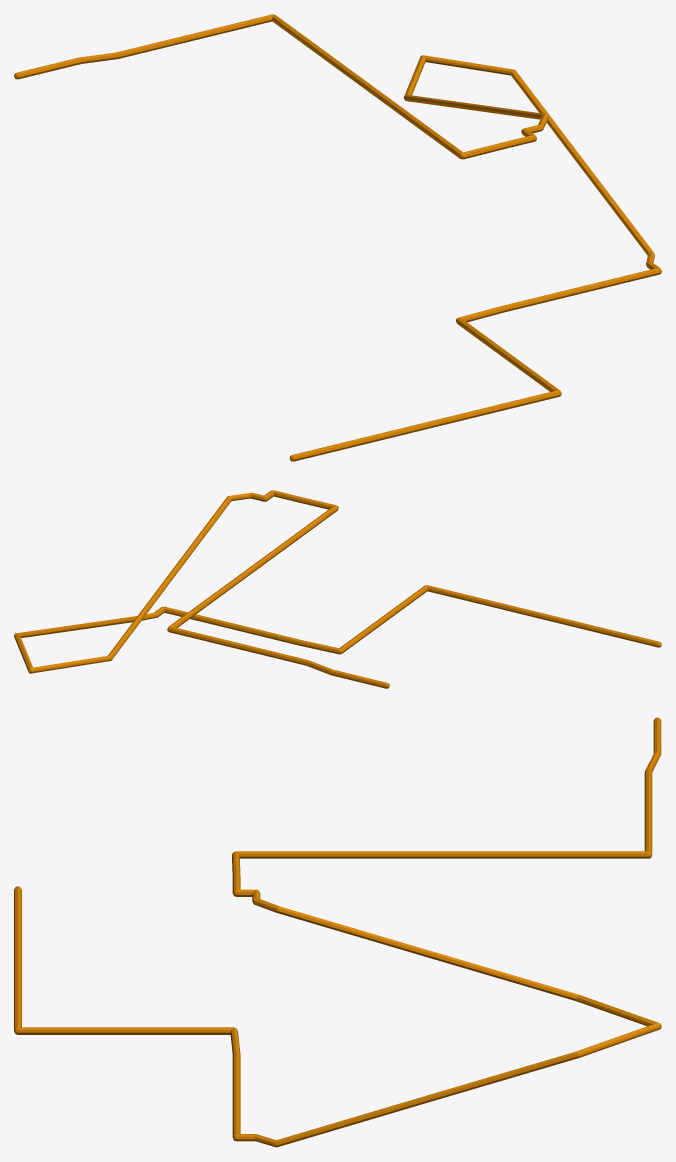
3 renders of one model, top to bottom at view 1: azimuth 30°, elevation 25°; view 2: azimuth 150°, elevation 25°; view 3: azimuth 270°, elevation 25°, orthographic. The views are drawn at different scales.
Size of the model in its own units: 1548 by 520 by 1648.
